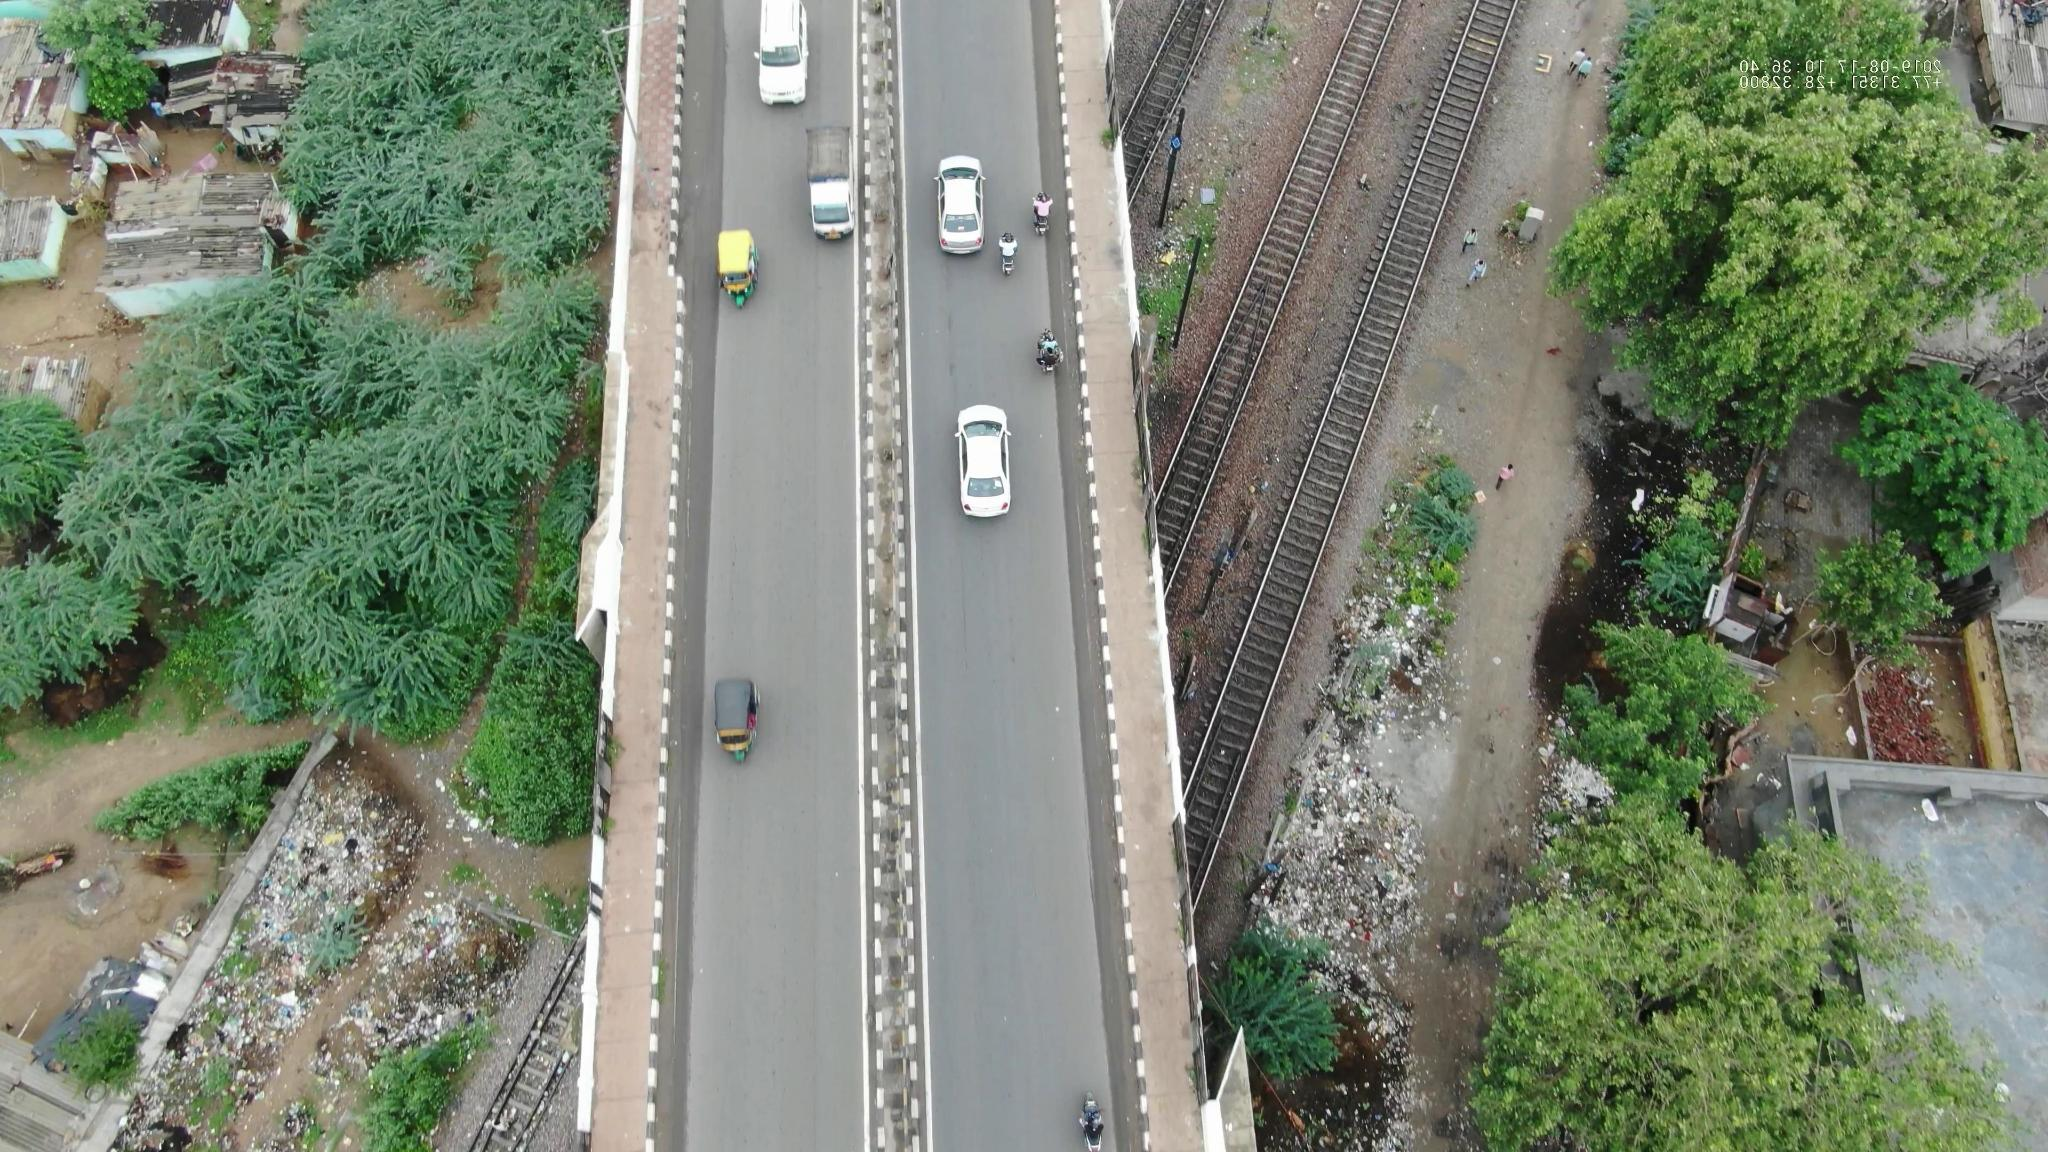Road_side_garbage: (193, 800, 407, 1072), (1255, 767, 1445, 980)
